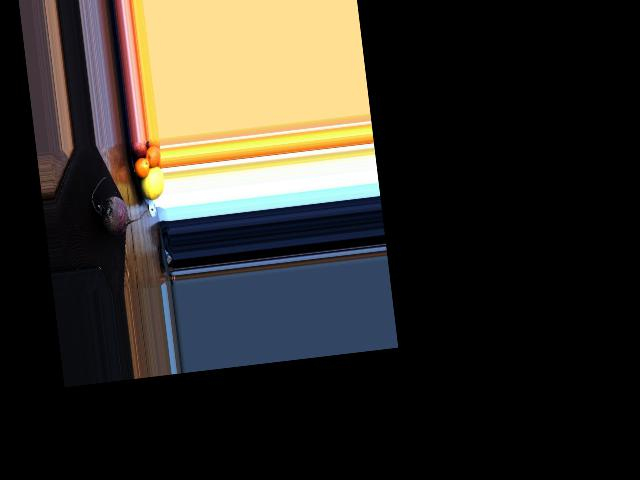beet: (89, 173, 147, 237)
